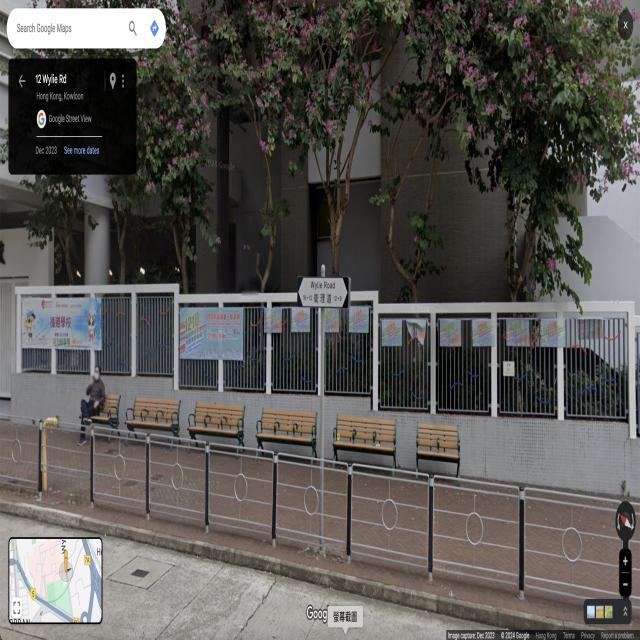Street-Direction-Sign: (296, 275, 349, 308)
